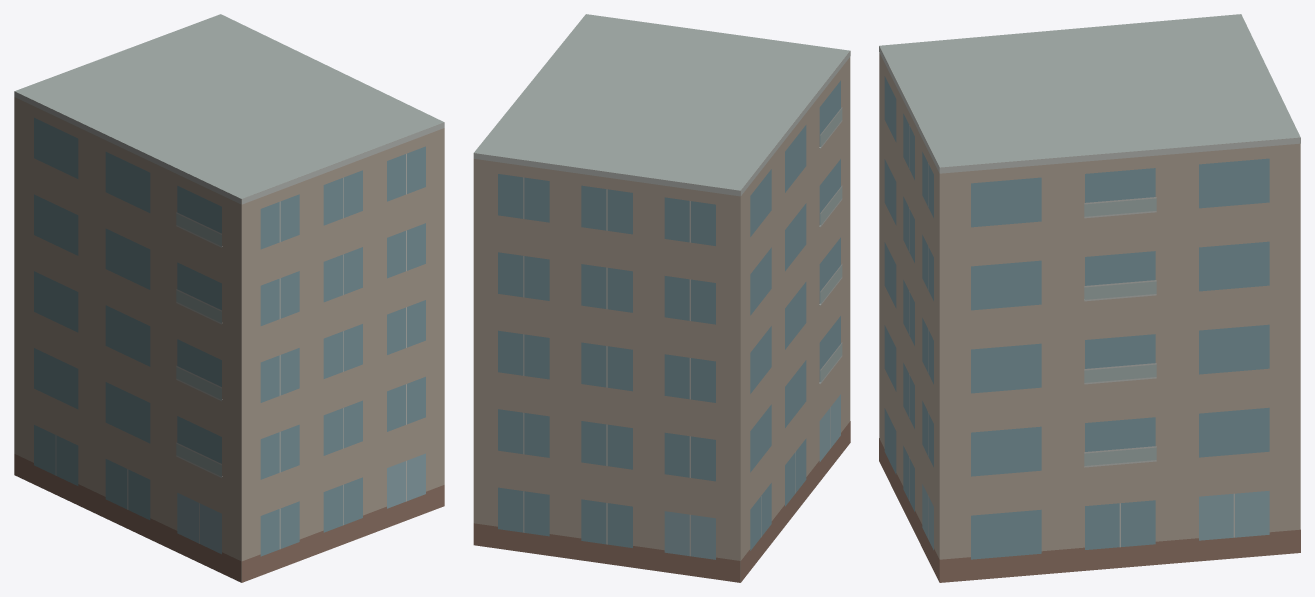
Rendered from survey-upis-32613548.glb.
3 renders of one model, left to right at view 1: azimuth 30°, elevation 25°; view 2: azimuth 150°, elevation 25°; view 3: azimuth 270°, elevation 25°, orthographic. The views are drawn at different scales.
Parts seen in each view (by area): view 1: survey-upis-32613548.tmp; view 2: survey-upis-32613548.tmp; view 3: survey-upis-32613548.tmp.
Part boxes in pixels (bbox=[...]): survey-upis-32613548.tmp: bbox=[14, 14, 444, 582]; survey-upis-32613548.tmp: bbox=[473, 14, 850, 582]; survey-upis-32613548.tmp: bbox=[879, 14, 1300, 582].
Bounding box in the file's own units: 13.17 × 16.6 × 15.29.
